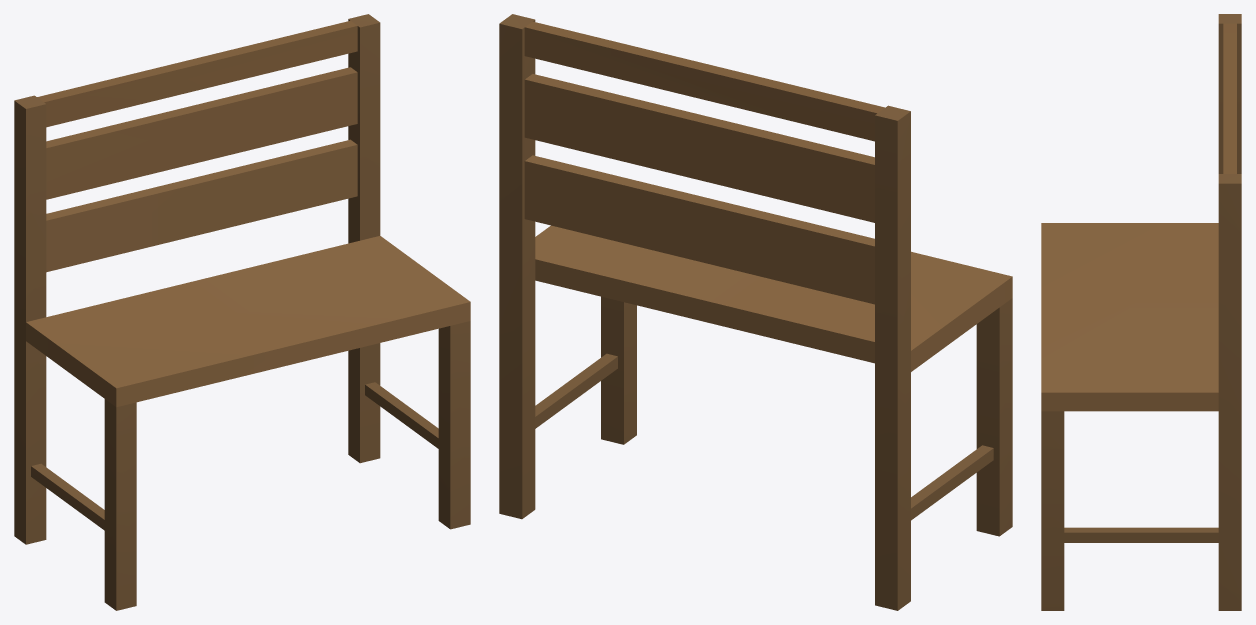
File: seat.bench.oak.glb
3 renders of one model, left to right at view 1: azimuth 30°, elevation 25°; view 2: azimuth 150°, elevation 25°; view 3: azimuth 270°, elevation 25°, orthographic. The views are drawn at different scales.
Parts seen in each view (by area): view 1: seat_bench_oak; view 2: seat_bench_oak; view 3: seat_bench_oak.
Part boxes in pixels (x1,y1,x2,y2): seat_bench_oak: [14, 14, 470, 610]; seat_bench_oak: [499, 14, 1012, 610]; seat_bench_oak: [1041, 14, 1241, 610].
Size of what is drawn, in the model's own units: 0.783 by 0.92 by 0.391.
